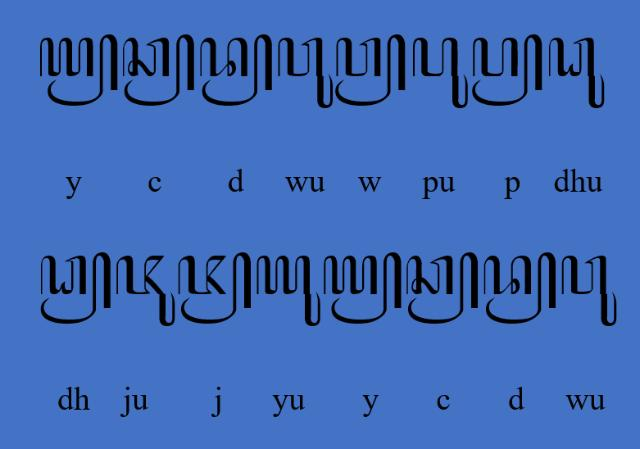-c: (406, 252, 480, 326), (122, 34, 194, 106)
-d: (482, 250, 558, 326), (199, 32, 273, 108)
-dh: (38, 252, 112, 324)
-j: (178, 251, 252, 325)
-p: (471, 34, 544, 106)
-w: (335, 32, 407, 106)
-y: (39, 33, 119, 105), (322, 252, 402, 324)
dhu: (548, 36, 606, 110)
ju: (116, 255, 176, 328)
pu: (413, 36, 469, 108)
wu: (278, 36, 334, 110), (562, 254, 618, 328)
yu: (256, 254, 322, 328)
